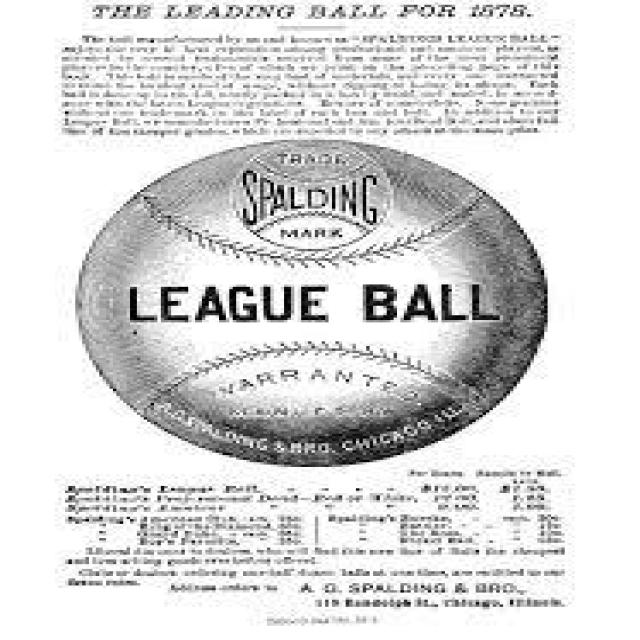ball: (67, 133, 558, 470)
